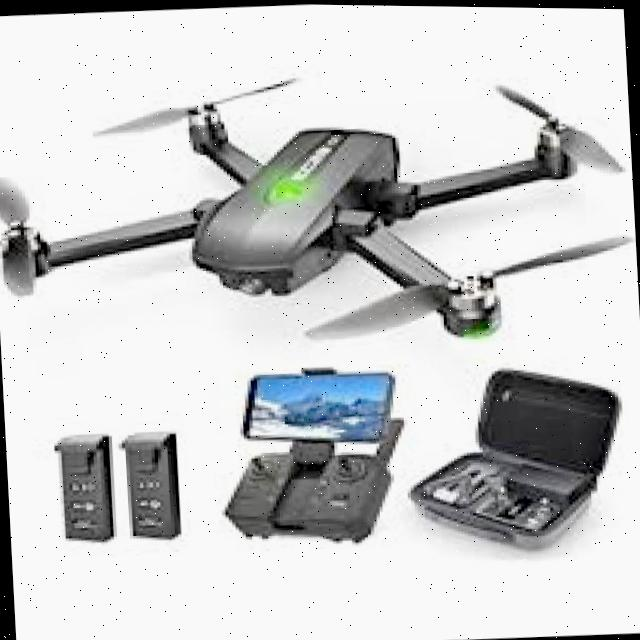drone: (0, 37, 640, 366)
